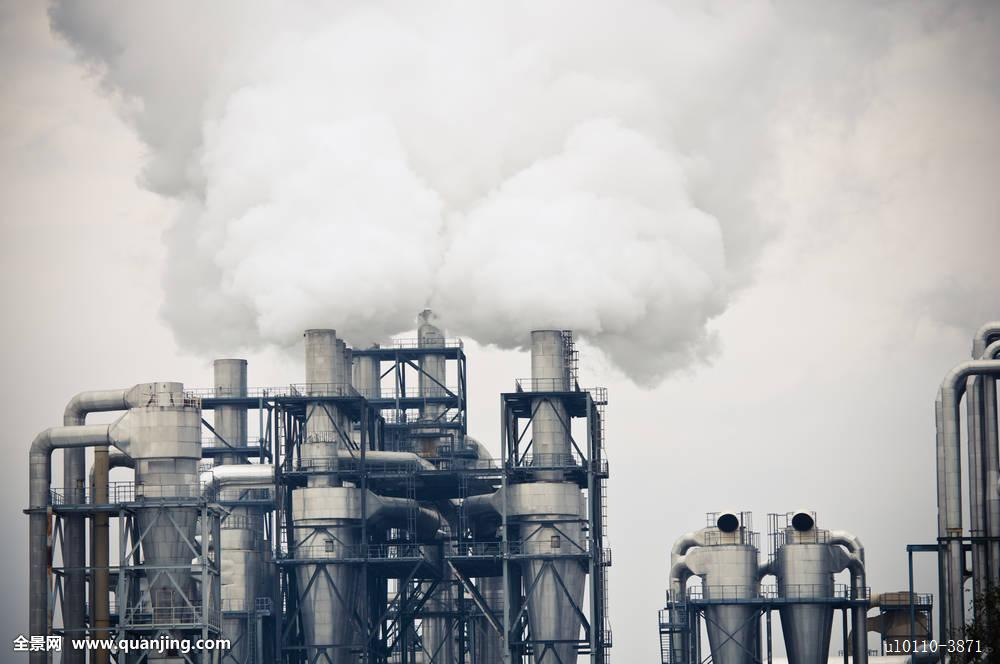dust: (465, 118, 737, 378), (210, 126, 447, 371)
